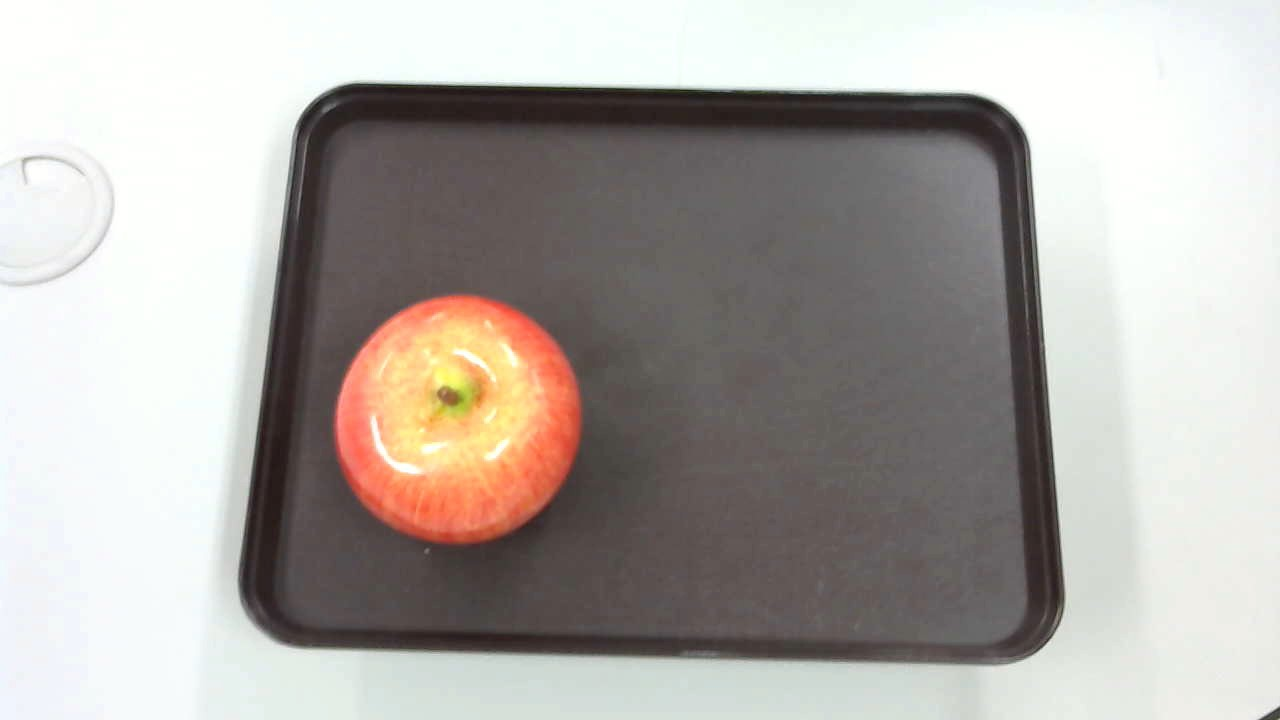red apple: (324, 290, 591, 552)
